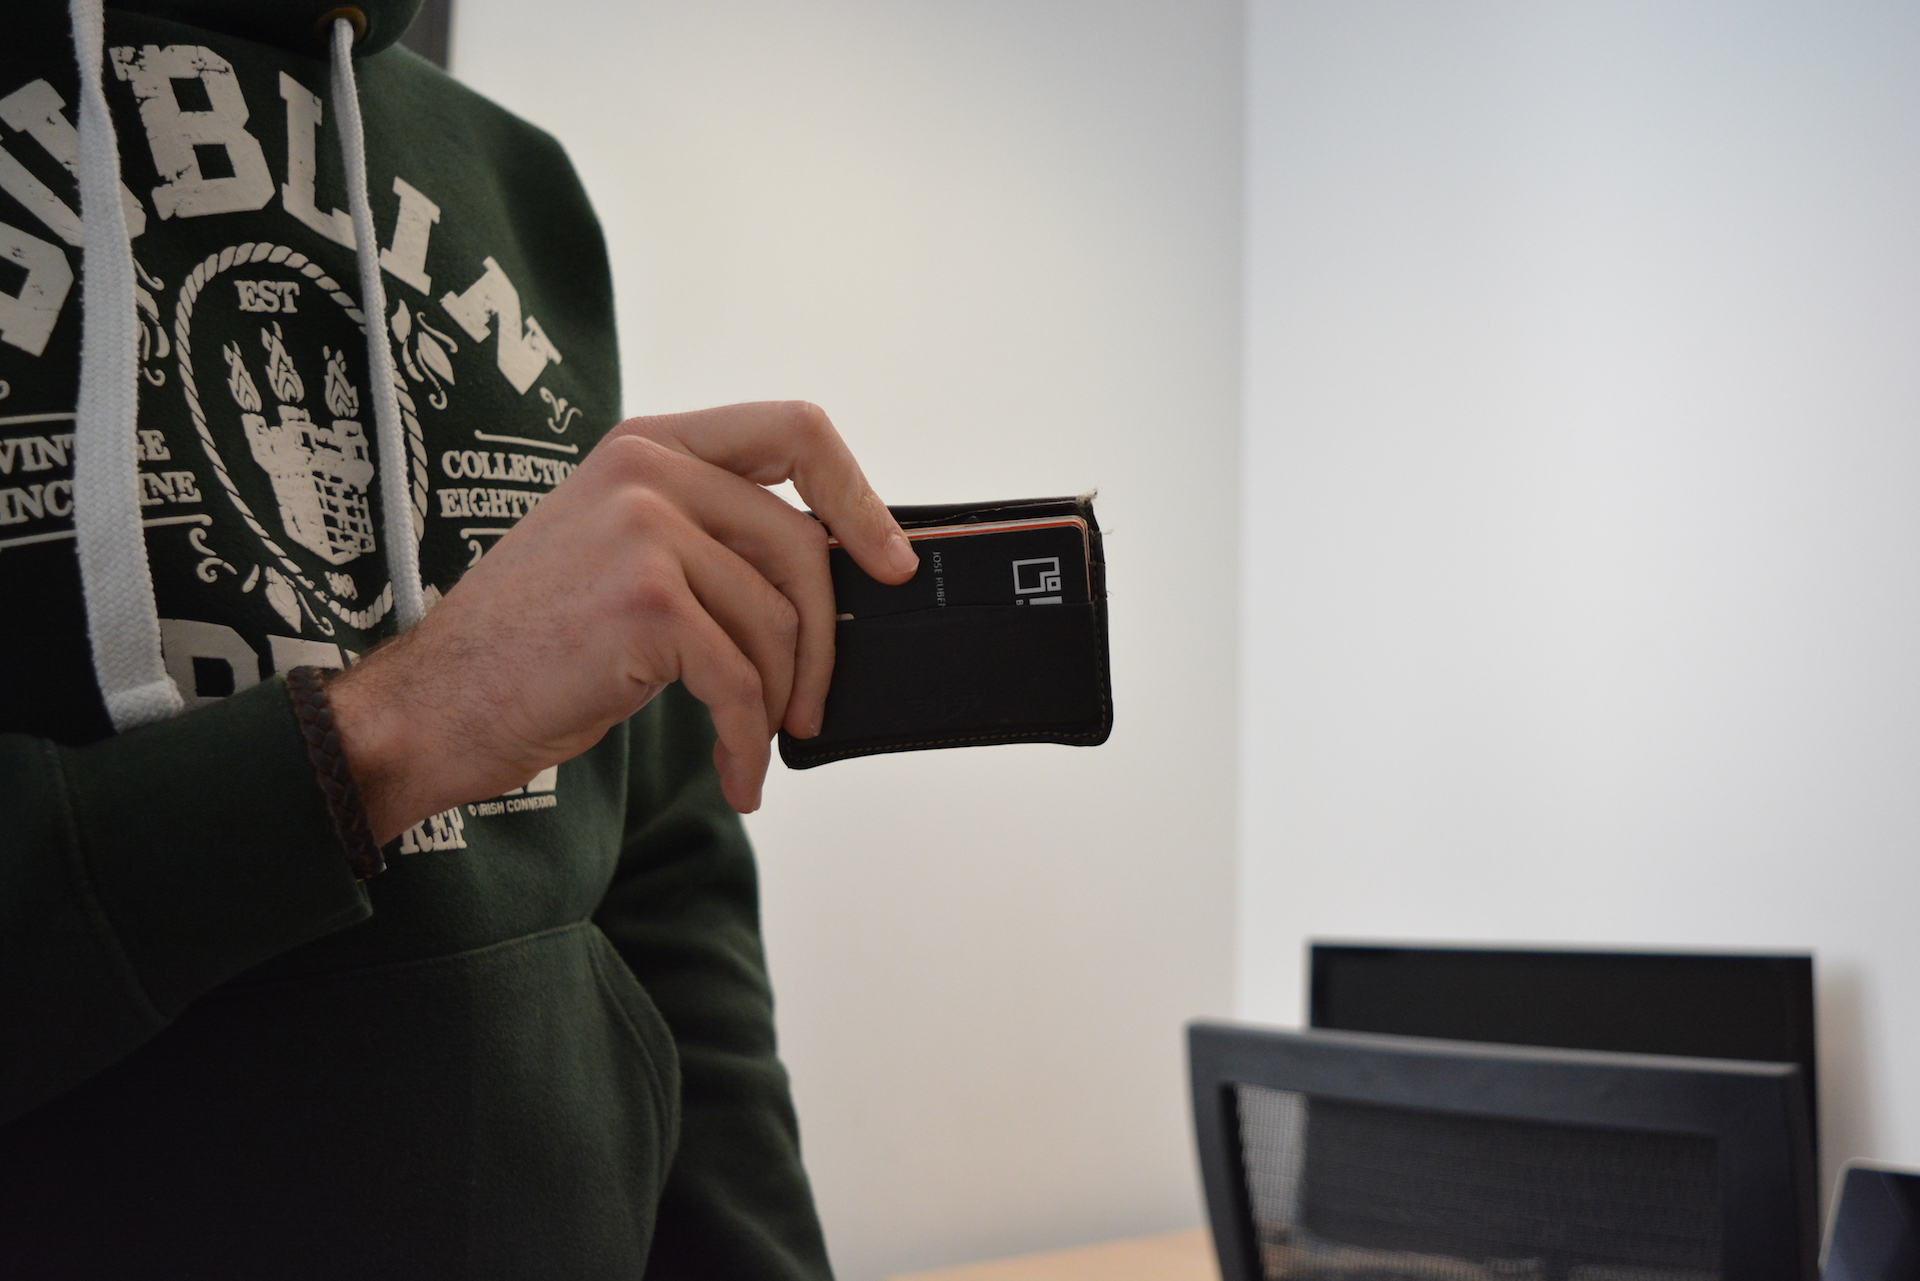monedero: (776, 486, 1117, 773)
